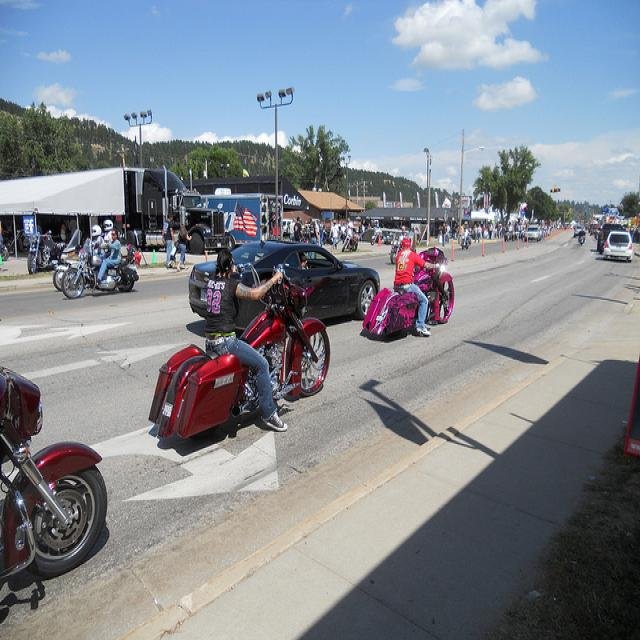motor: (148, 262, 330, 440), (0, 360, 108, 587), (361, 247, 454, 338), (61, 250, 139, 299), (26, 235, 64, 275), (52, 259, 78, 291), (342, 235, 359, 253), (461, 229, 471, 250), (594, 229, 599, 240), (580, 235, 584, 246)
